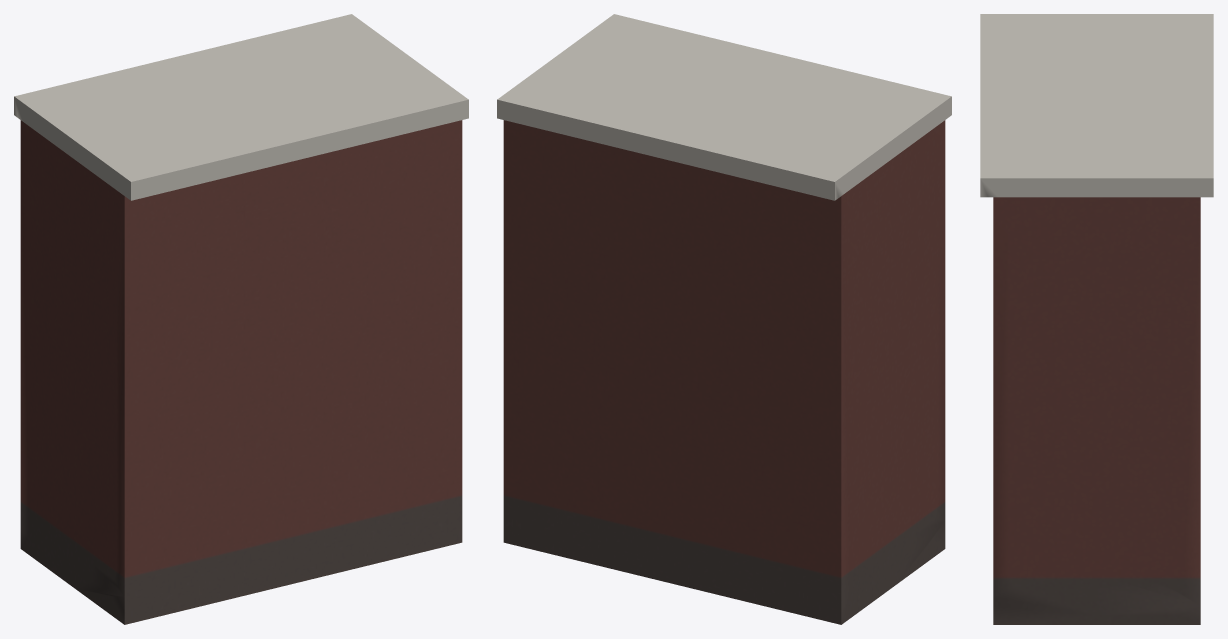
The model's file is tru_lan_can_ha_long.glb.
3 views of the same model, side by side, from view 1: azimuth 30°, elevation 25°; view 2: azimuth 150°, elevation 25°; view 3: azimuth 270°, elevation 25° (orthographic).
Parts seen in each view (by area): view 1: drawing; view 2: drawing; view 3: drawing.
Boxes of the visible parts, x1=… form: drawing: x1=14, y1=14, x2=468, y2=624; drawing: x1=497, y1=14, x2=951, y2=624; drawing: x1=980, y1=14, x2=1213, y2=624.
Bounding box in the file's own units: 0.75 × 0.95 × 0.45.
1 material, 1 textured.
